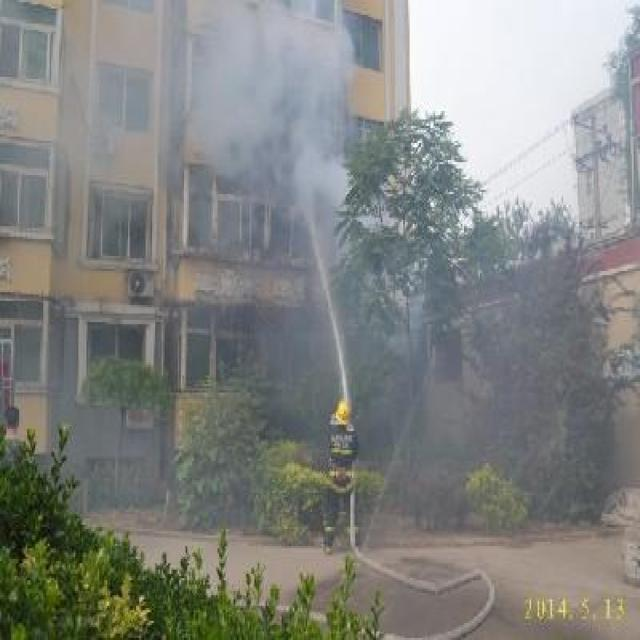Smoke: (35, 0, 365, 210)
